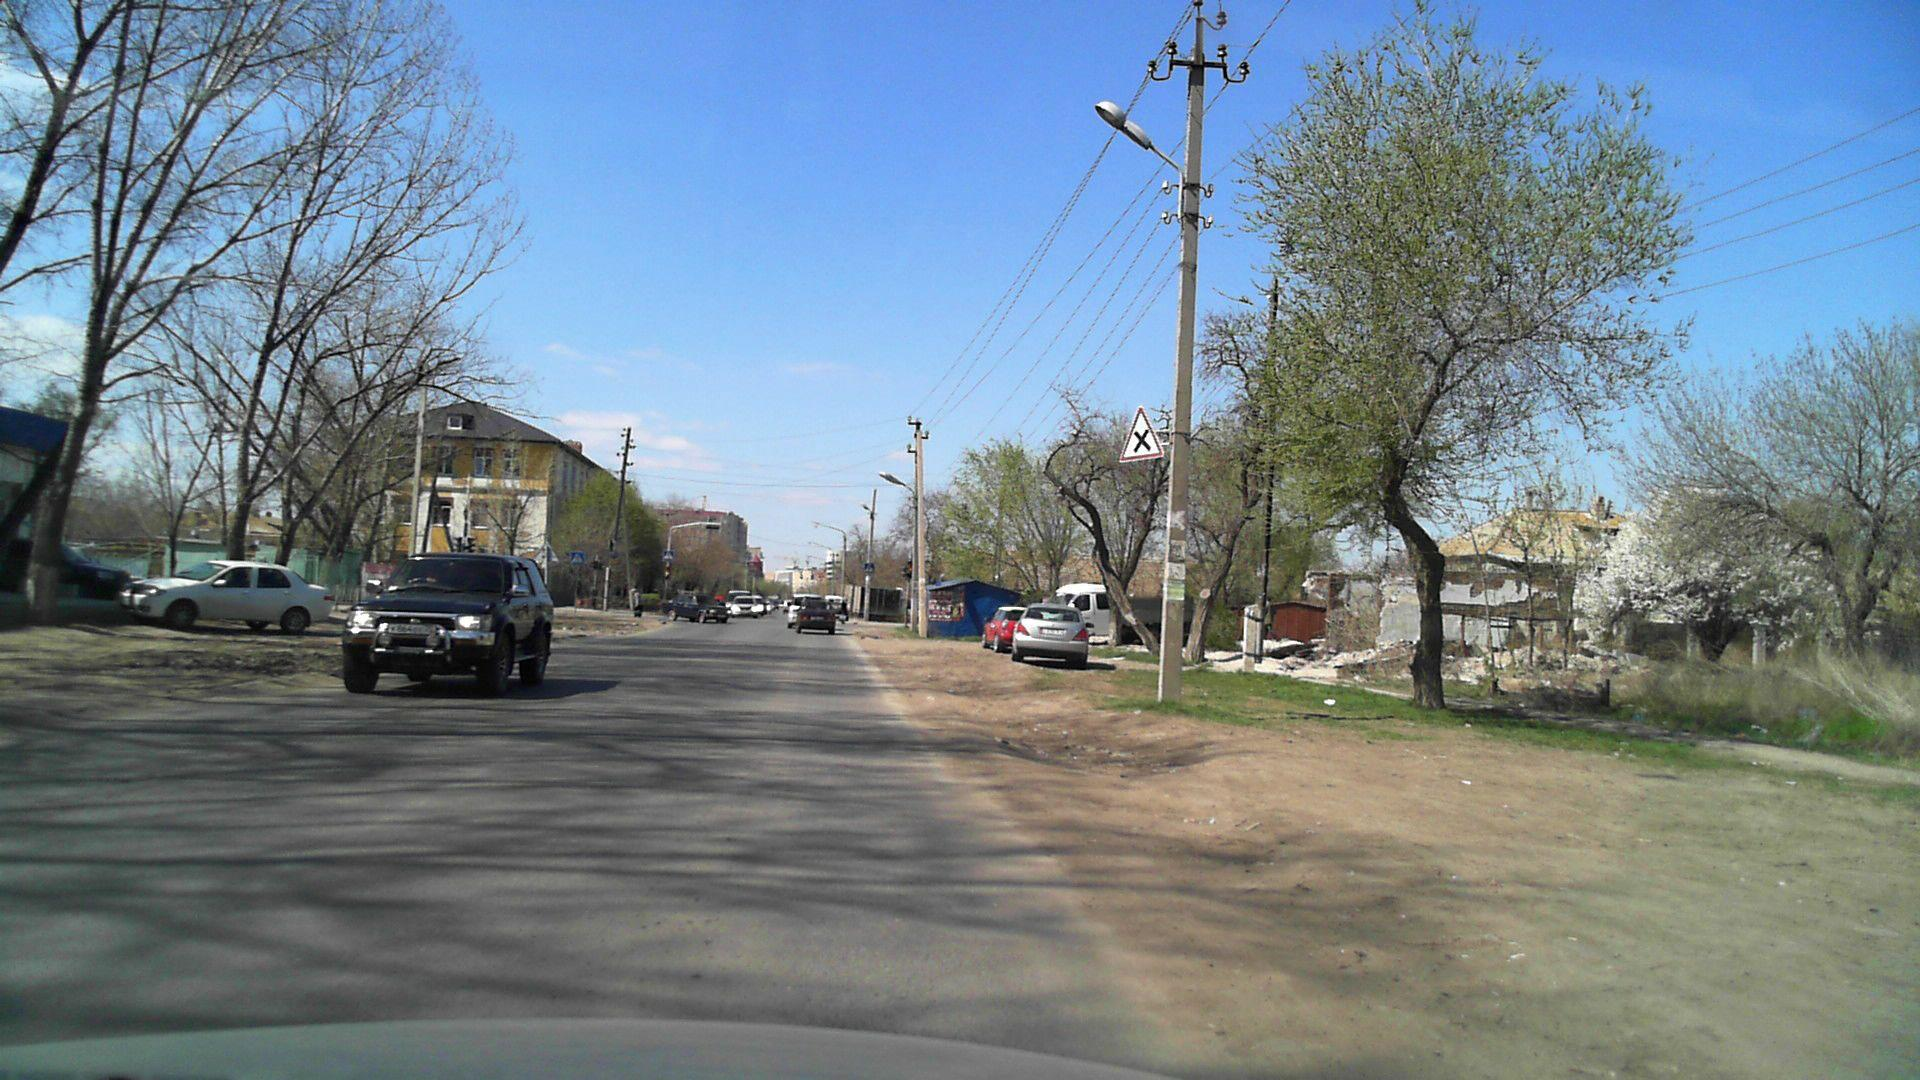1_6: (1118, 404, 1163, 463)
5_19_1: (864, 563, 874, 574)
5_19_2: (571, 551, 584, 564), (662, 550, 673, 560)
